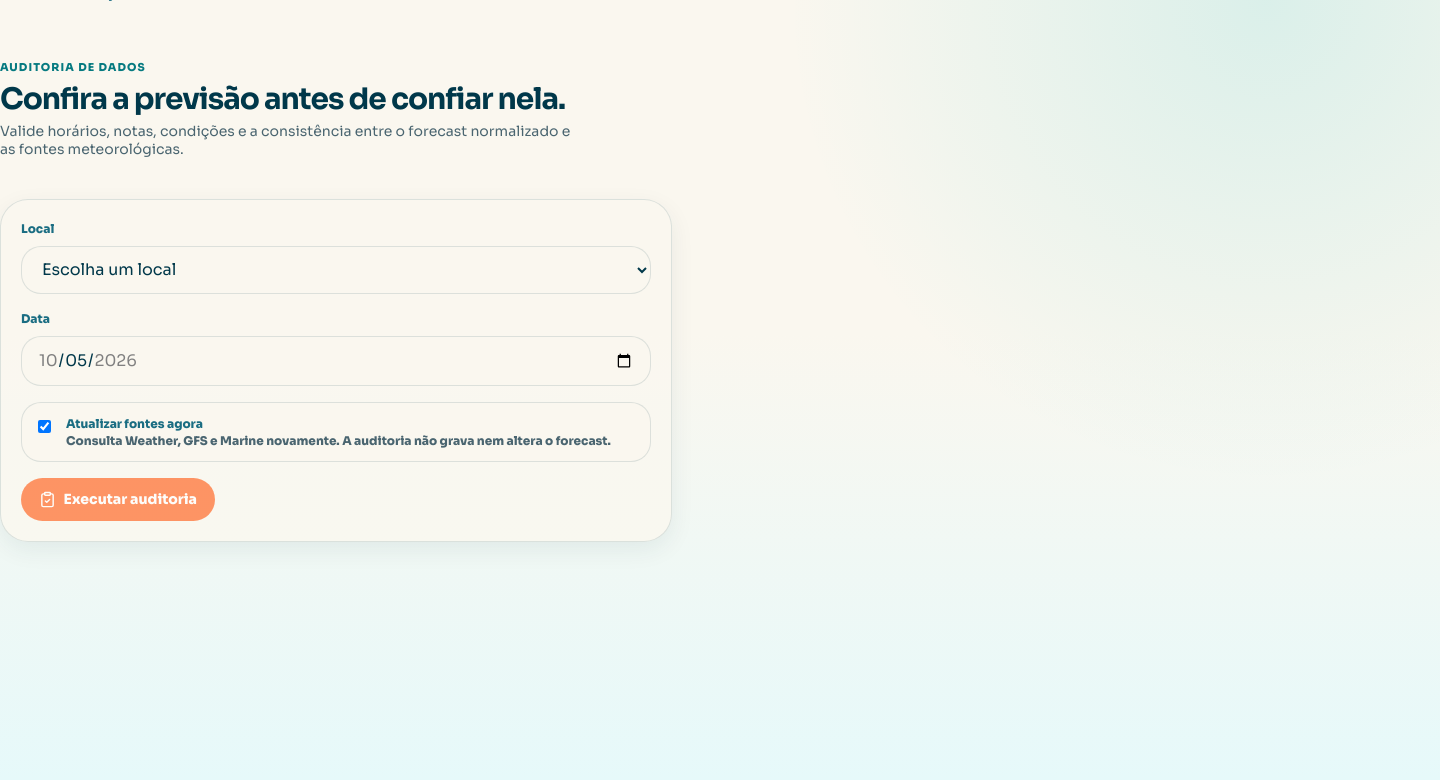
Test case: AdminAuditPage › lista os locais em ordem alfabética e executa a auditoria
Select "Matadeiro" in the dropdown labelled "Local": (336, 270) [21,246,651,294]
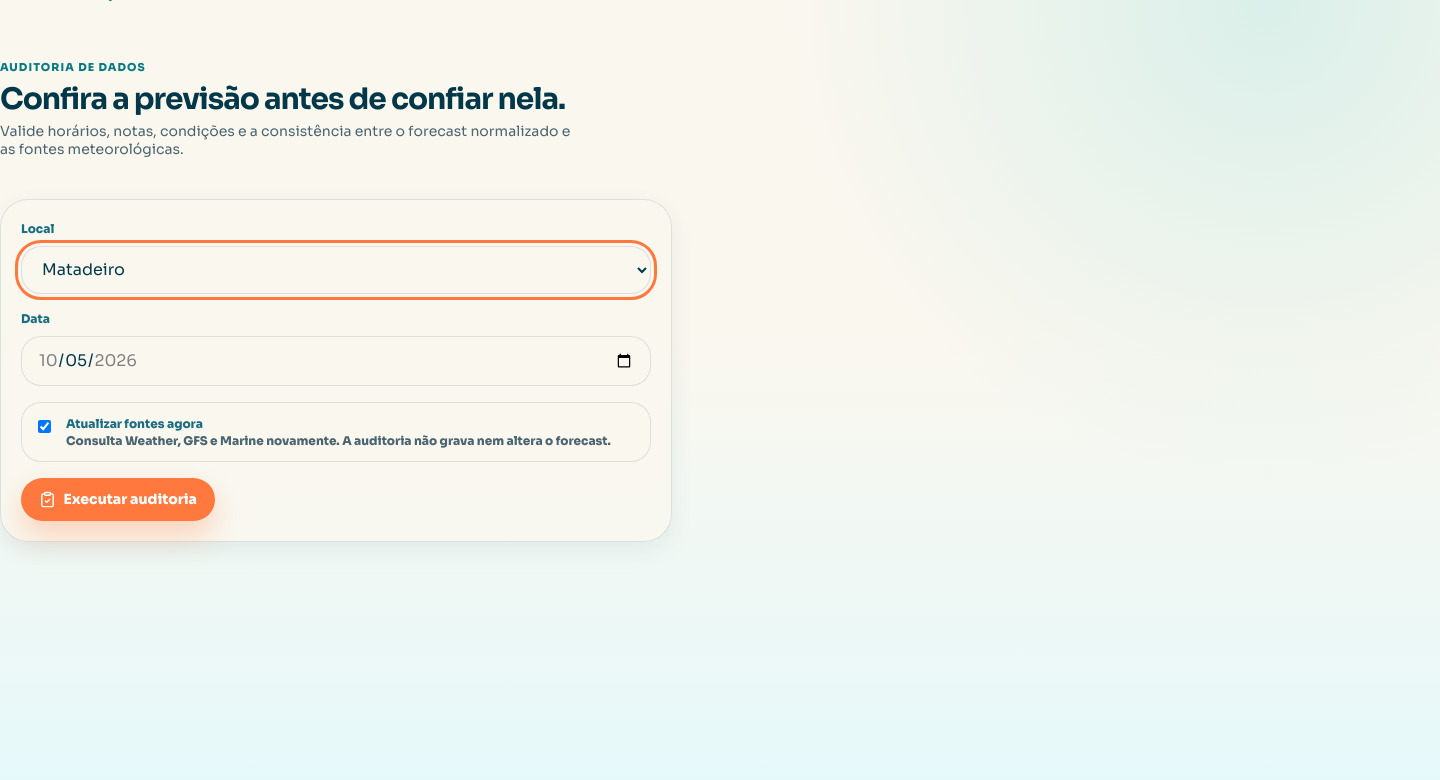
Click the button "Executar auditoria": click(118, 499) [21,478,215,521]
(page scrolled)
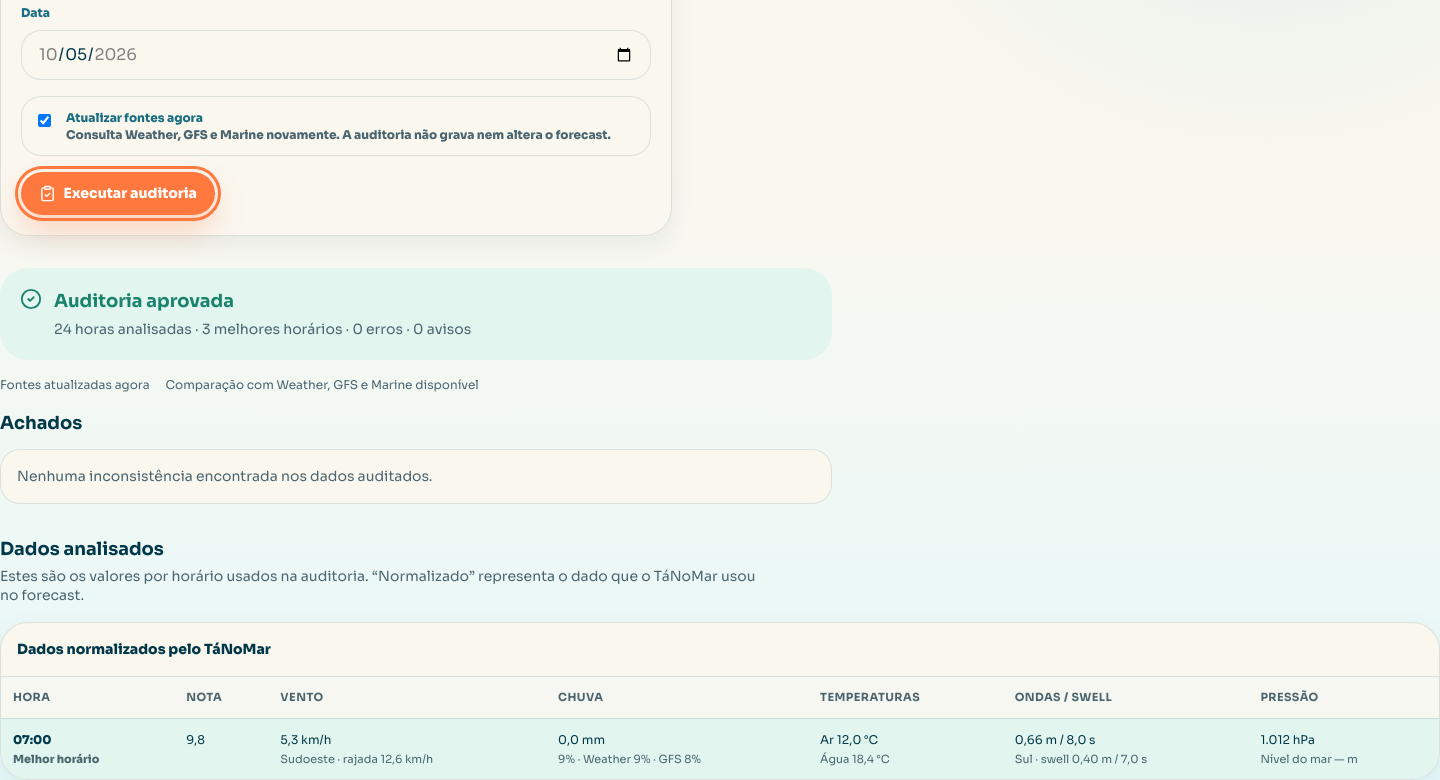
Check: the heading "Auditoria aprovada" is shown, box [54,290,234,312]
Check: the text "Dados normalizados pelo TáNoMar" is shown, box [17,640,271,658]
Check: the text "5,3 km/h" is shown, box [268,718,546,779]
